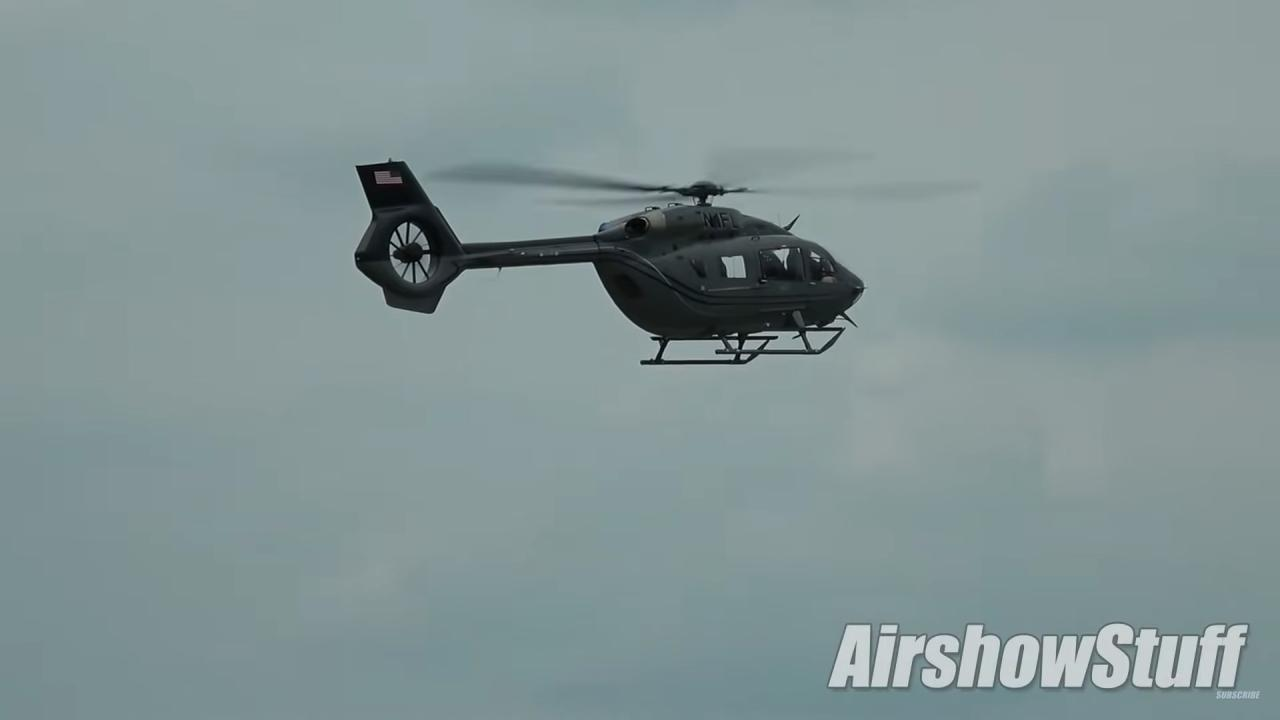Helicopter: (318, 72, 1040, 442)
